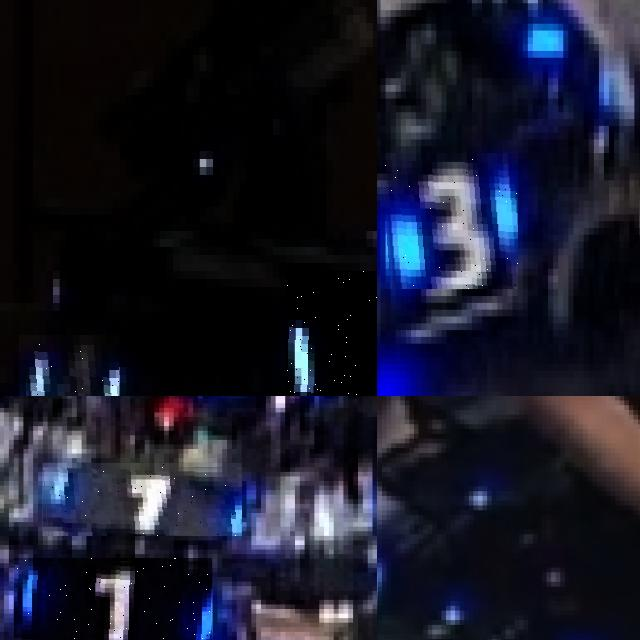B1: (13, 558, 212, 640), (42, 463, 242, 536)
B3: (380, 153, 518, 289), (286, 271, 377, 396)
B4: (19, 335, 119, 396)
